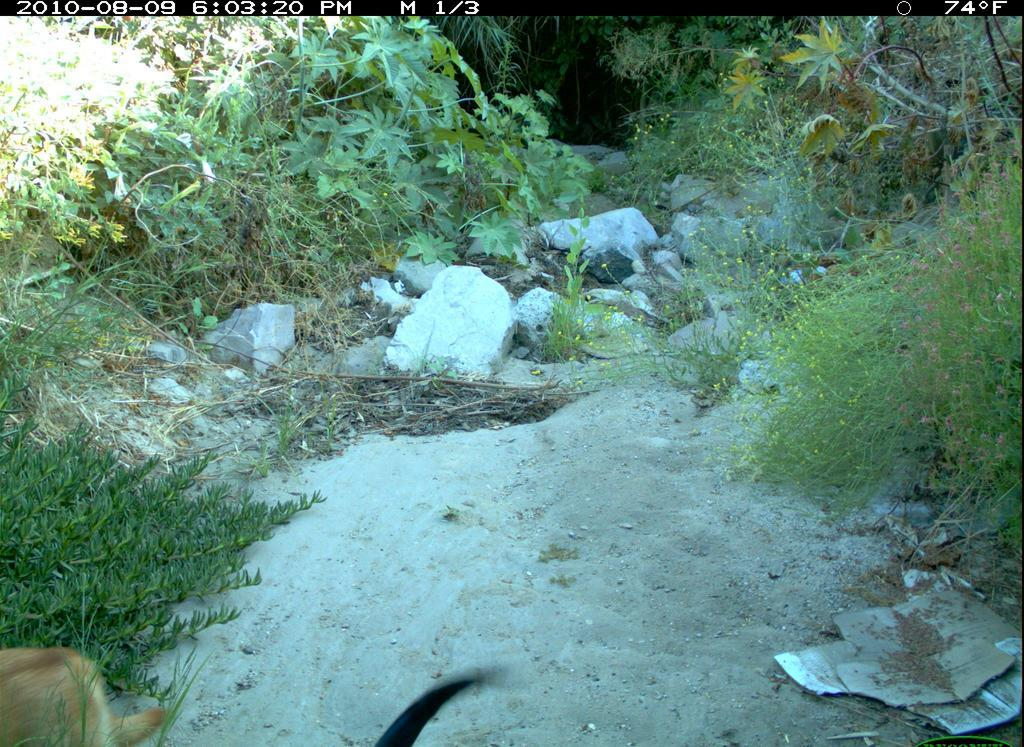dog: (6, 630, 198, 747), (316, 673, 525, 747)
